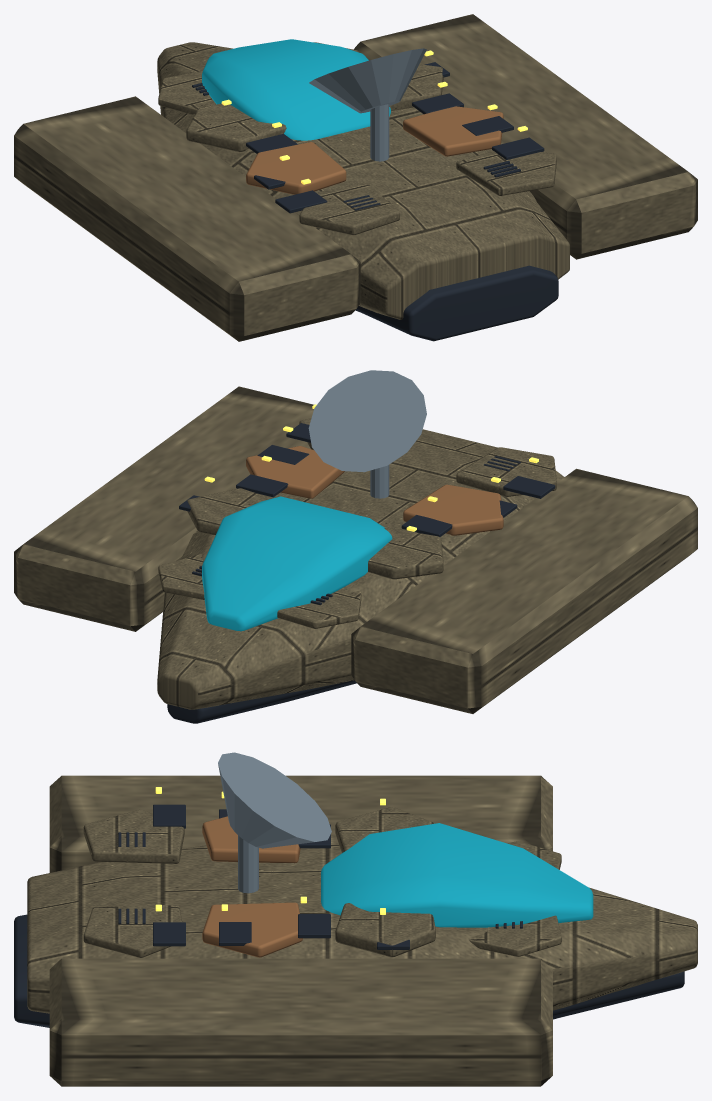
Rendered from strata.glb.
The picture shows the model from 3 angles, top to bottom: view 1: azimuth 30°, elevation 25°; view 2: azimuth 150°, elevation 25°; view 3: azimuth 270°, elevation 25°; orthographic projection. The views are drawn at different scales.
Visible parts, largest first — view 1: Gôndola do motor.051 · exportação, Bocal do motor.051 · exportação, Cabine panorâmica.025 · exportação, Colar da turbina.154 · exportação, Antena parabólica.002 · exportação; view 2: Gôndola do motor.051 · exportação, Cabine panorâmica.025 · exportação, Antena parabólica.002 · exportação, Colar da turbina.154 · exportação, Bocal do motor.051 · exportação; view 3: Gôndola do motor.051 · exportação, Cabine panorâmica.025 · exportação, Antena parabólica.002 · exportação, Bocal do motor.051 · exportação, Colar da turbina.154 · exportação.
Boxes of the visible parts, box(x1,y1,x2,y2) form: Gôndola do motor.051 · exportação: box(14, 14, 697, 341); Bocal do motor.051 · exportação: box(192, 62, 558, 341); Cabine panorâmica.025 · exportação: box(202, 39, 390, 140); Colar da turbina.154 · exportação: box(246, 106, 503, 194); Antena parabólica.002 · exportação: box(309, 48, 426, 161); Gôndola do motor.051 · exportação: box(14, 386, 697, 713); Cabine panorâmica.025 · exportação: box(202, 496, 392, 631); Antena parabólica.002 · exportação: box(308, 370, 426, 498); Colar da turbina.154 · exportação: box(246, 446, 503, 535); Bocal do motor.051 · exportação: box(167, 423, 555, 723); Gôndola do motor.051 · exportação: box(27, 775, 697, 1086); Cabine panorâmica.025 · exportação: box(321, 823, 593, 927); Antena parabólica.002 · exportação: box(218, 752, 331, 893); Bocal do motor.051 · exportação: box(14, 804, 684, 1027); Colar da turbina.154 · exportação: box(202, 816, 302, 957).
Bounding box in the file's own units: 45.58 × 21.06 × 51.88.
Materials: 7 (1 with a texture image).
